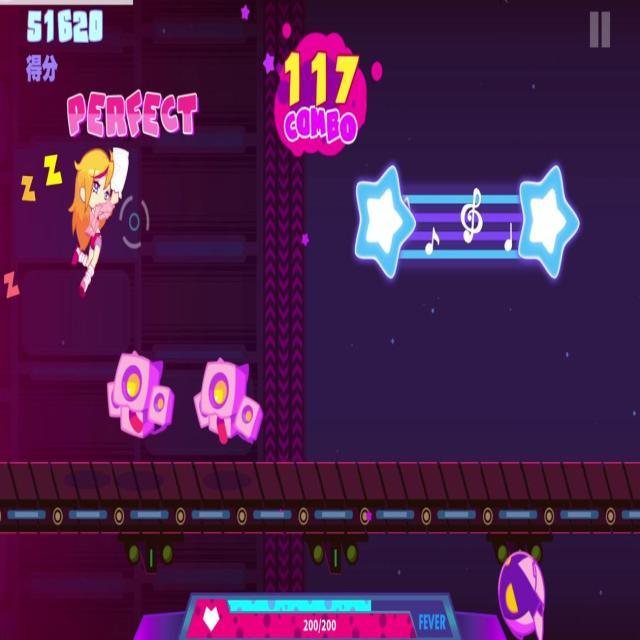hold: (351, 160, 583, 286)
jiqi: (191, 337, 266, 448), (98, 333, 178, 437)
jiqiqiu: (500, 546, 544, 640)
